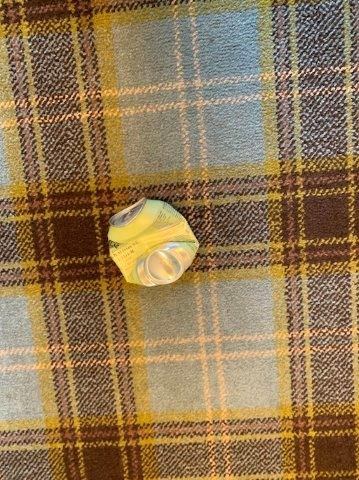kaleng: (107, 197, 200, 286)
